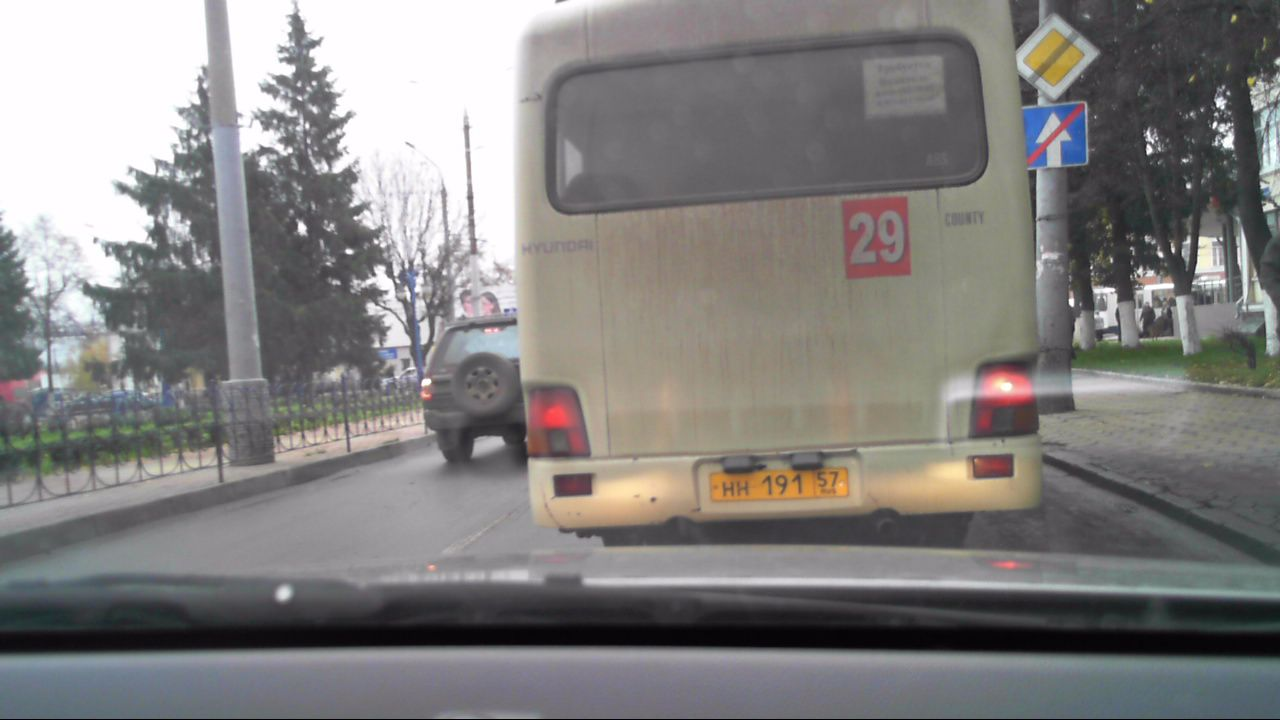main road: (999, 13, 1100, 103)
